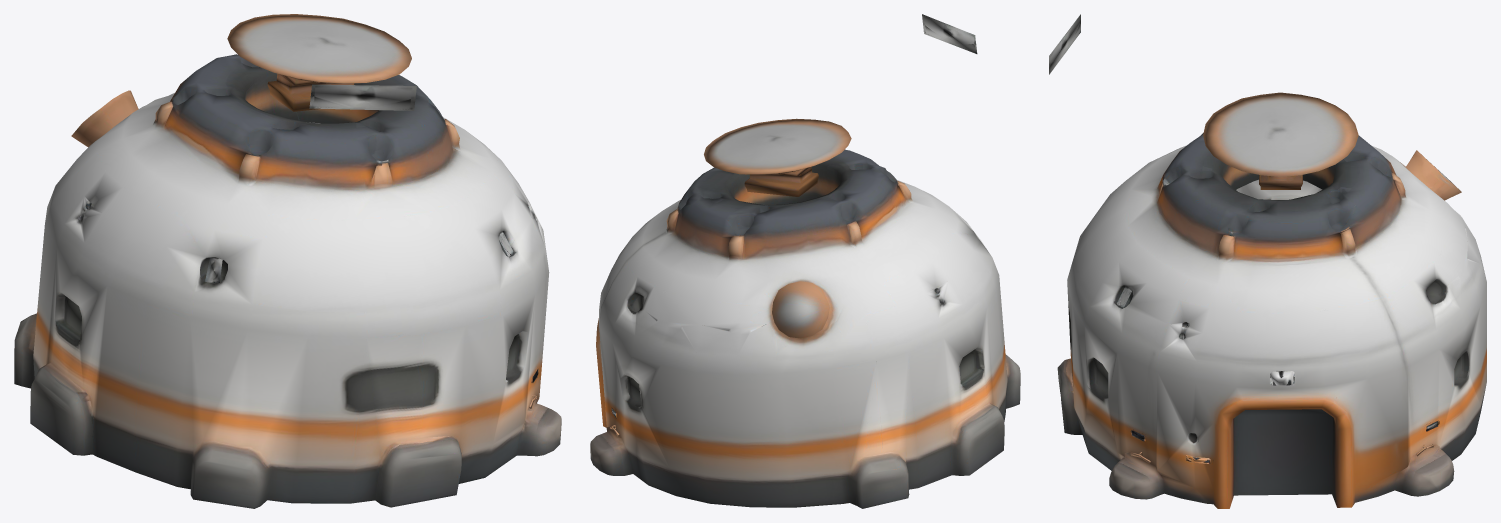
The model's file is camp-dome.glb.
3 renders of one model, left to right at view 1: azimuth 30°, elevation 25°; view 2: azimuth 150°, elevation 25°; view 3: azimuth 270°, elevation 25°, orthographic. The views are drawn at different scales.
Visible parts, largest first — view 1: tripo_node_947df9fa-7f9c-43c4-b07f-78e823c559a2; view 2: tripo_node_947df9fa-7f9c-43c4-b07f-78e823c559a2; view 3: tripo_node_947df9fa-7f9c-43c4-b07f-78e823c559a2.
Boxes of the visible parts, x1,y1,x2,y2 form: tripo_node_947df9fa-7f9c-43c4-b07f-78e823c559a2: (14, 14, 561, 508); tripo_node_947df9fa-7f9c-43c4-b07f-78e823c559a2: (590, 14, 1020, 508); tripo_node_947df9fa-7f9c-43c4-b07f-78e823c559a2: (1049, 14, 1486, 508).
Size of the model in its own units: 0.998 by 0.9277 by 0.9941.
Materials: 1 (1 with a texture image).
